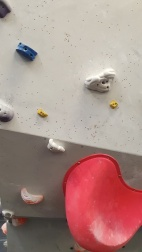Jug: (83, 67, 117, 94), (20, 188, 45, 207), (44, 137, 67, 156)
Pinch: (16, 42, 37, 59)
Sloper: (1, 103, 15, 123)
